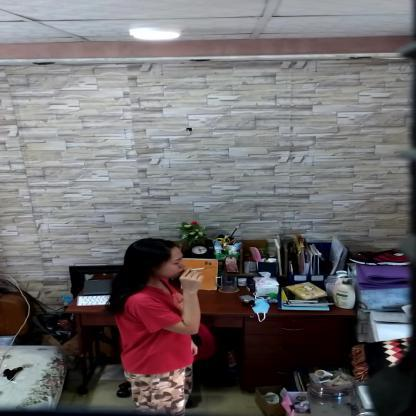cigarette: (191, 267, 207, 271)
person: (106, 237, 201, 415)
